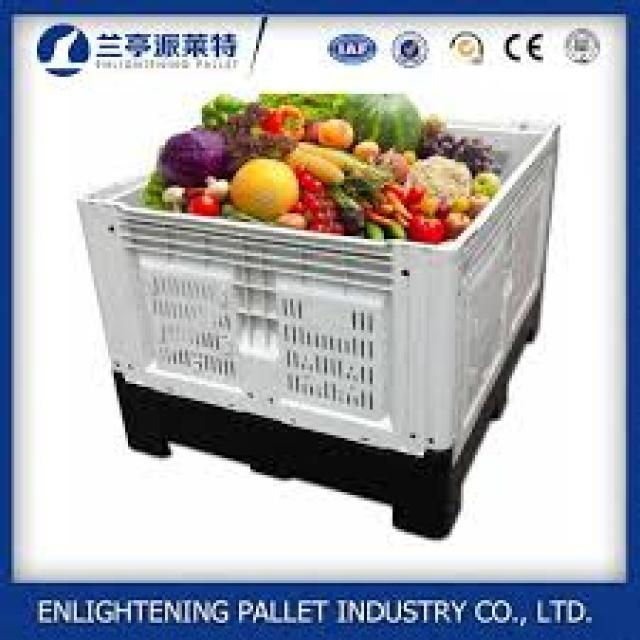basket: (57, 92, 555, 545)
